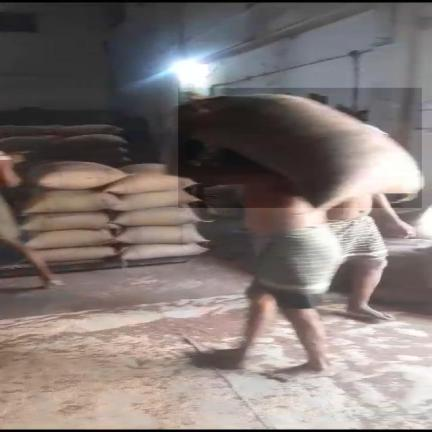Zone-Counting: (178, 95, 423, 371)
